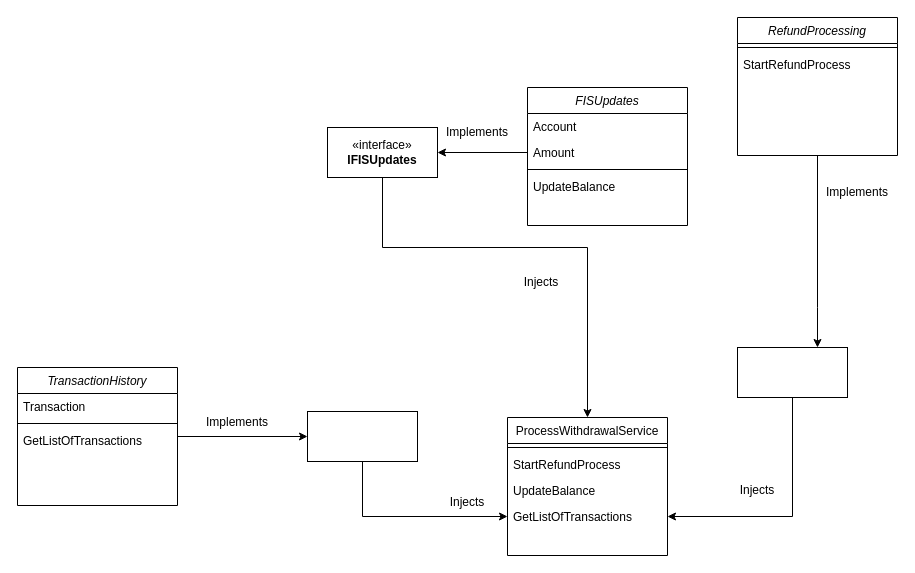
Image size: 915x573. Some labels were removed from this diagram. Each missing label, with the centre of its shape:
"«interface» IRefundProcessing" belongs at point (792, 372).
"«interface» ITransactionHistory" belongs at point (362, 436).
